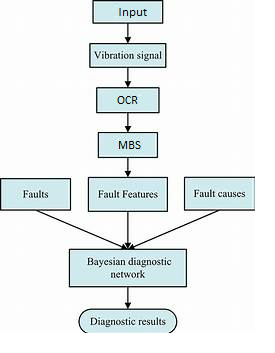arrow: (127, 209, 220, 252), (34, 210, 127, 249), (125, 213, 132, 252), (122, 111, 133, 134), (123, 154, 133, 178), (123, 22, 133, 43), (124, 66, 133, 89), (123, 286, 132, 309)
process: (67, 247, 190, 290), (86, 174, 170, 213), (182, 174, 259, 213), (1, 175, 73, 212), (87, 41, 168, 69), (95, 85, 162, 115), (96, 131, 159, 160), (90, 1, 166, 25)
terminator: (77, 306, 179, 336)
text: (87, 256, 173, 281), (89, 316, 166, 329), (94, 50, 163, 62), (96, 188, 159, 201), (193, 188, 247, 199), (116, 5, 148, 19), (21, 187, 51, 199), (117, 139, 142, 151), (115, 94, 138, 106)
